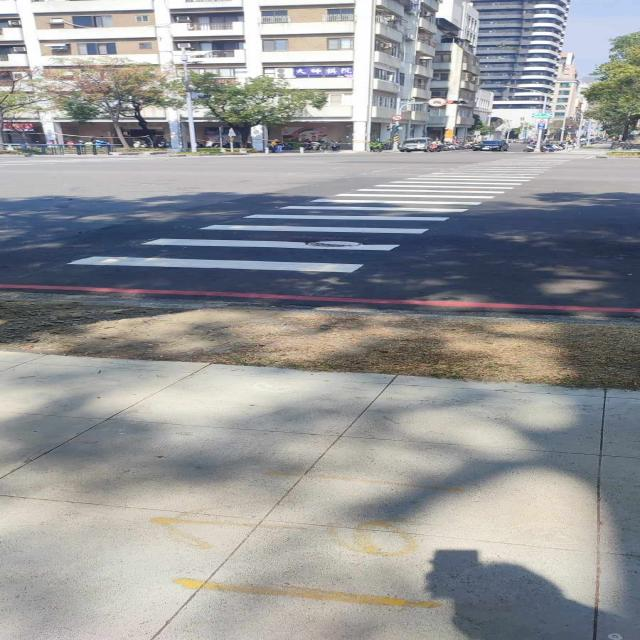zebra_crossing: (456, 26, 531, 287)
